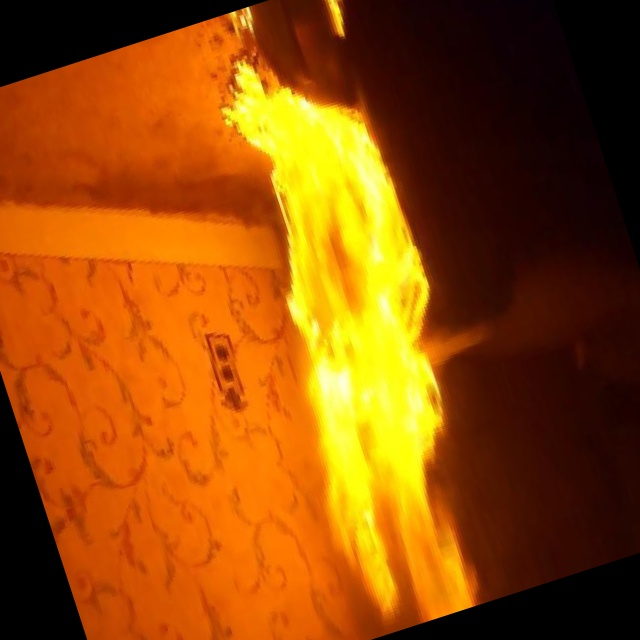fire: (187, 58, 533, 640)
